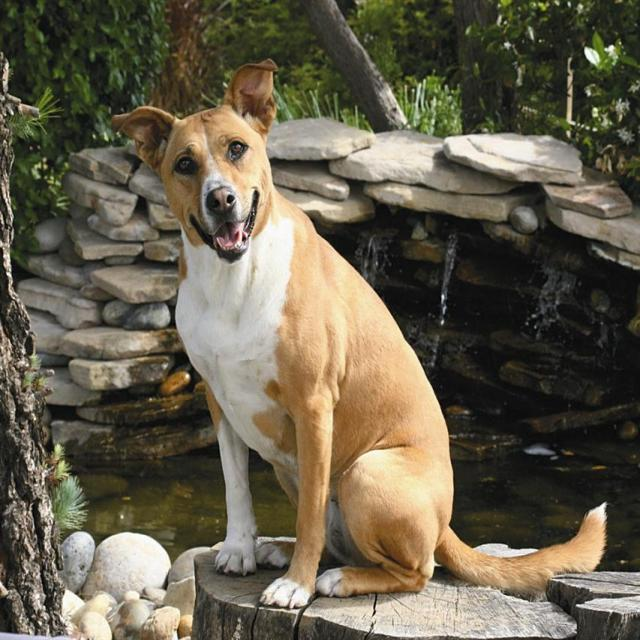rhodesian_ridgeback: (107, 56, 608, 607)
